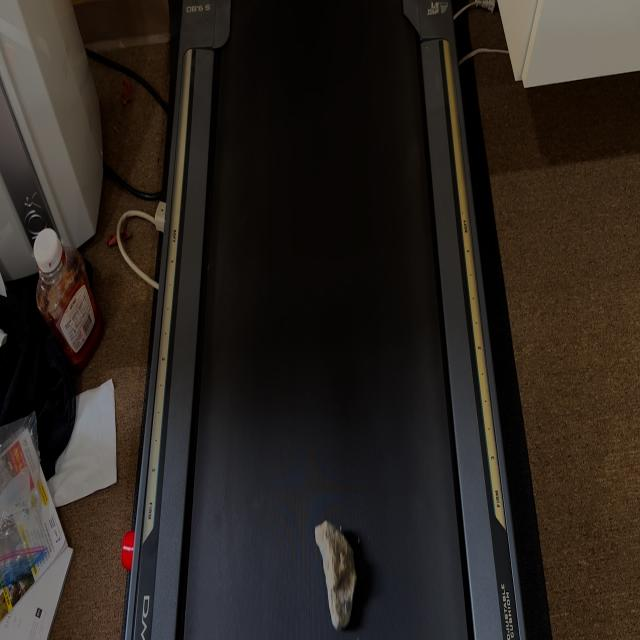Trash: (314, 521, 357, 631)
